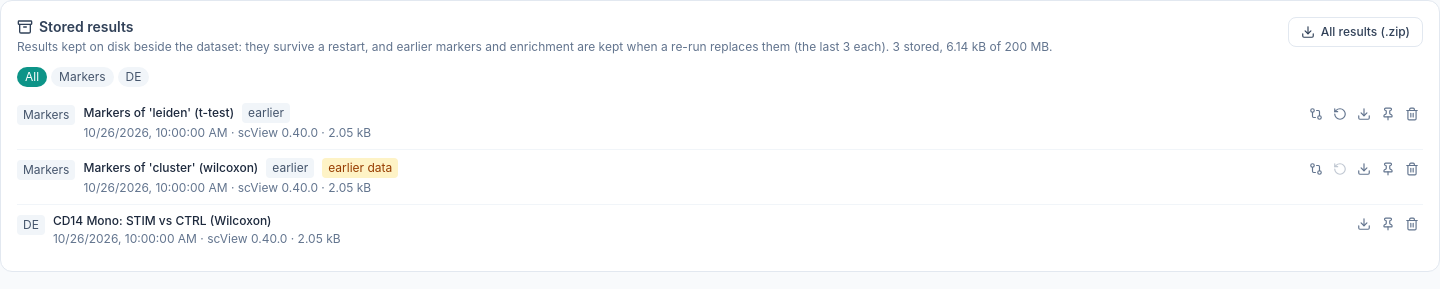
ResultsList › lists results with kind, earlier and stale badges, and filters by kind
Expected: the number of list items with test id "stored-result" is 3, 17,95 -> 1423,150; 17,150 -> 1423,205; 17,205 -> 1423,255
Expected: the text "earlier data" is shown, 322,158 -> 398,178
Click the button "DE".
click(133, 77)  # box 118,67 -> 149,87
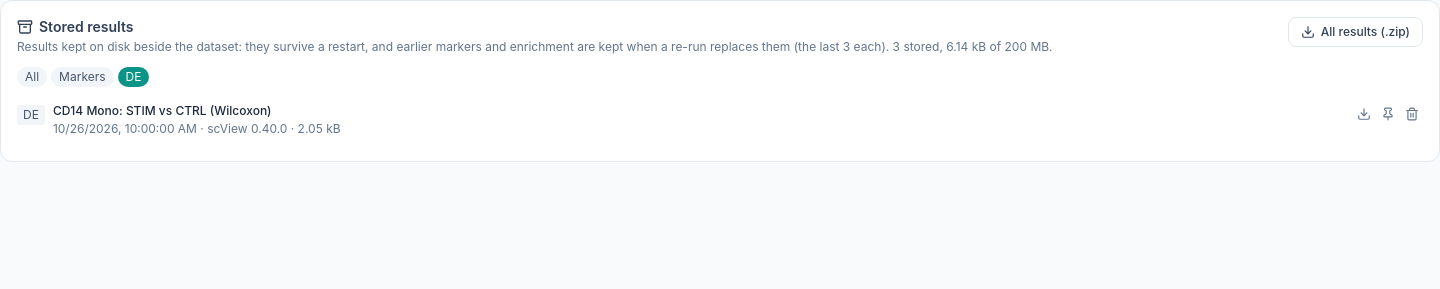
Expected: the number of list items with test id "stored-result" is 1, 17,95 -> 1423,145
